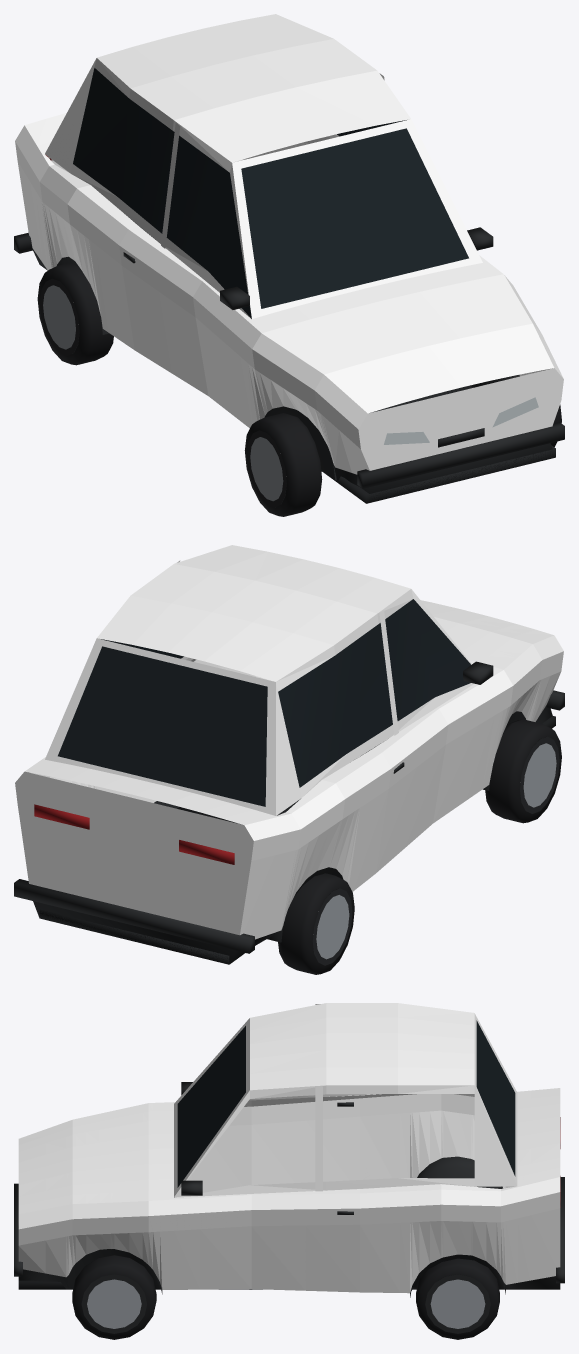
The model's file is hozuki_bico.glb.
The picture shows the model from 3 angles, top to bottom: view 1: azimuth 30°, elevation 25°; view 2: azimuth 150°, elevation 25°; view 3: azimuth 270°, elevation 25°; orthographic projection. The views are drawn at different scales.
Parts seen in each view (by area): view 1: Body_Paint, Body_Details, Mount_FrontLeft_Wheel_Details, Mount_RearLeft_Wheel_Details; view 2: Body_Paint, Body_Details, Mount_FrontLeft_Wheel_Details, Mount_RearLeft_Wheel_Details; view 3: Body_Paint, Body_Details, Mount_FrontRight_Wheel_Details, Mount_RearRight_Wheel_Details.
Boxes of the visible parts, x1,y1,x2,y2 form: Body_Paint: (15, 14, 563, 474); Body_Details: (14, 68, 564, 503); Mount_FrontLeft_Wheel_Details: (244, 413, 322, 516); Mount_RearLeft_Wheel_Details: (37, 262, 113, 365); Body_Paint: (15, 545, 563, 939); Body_Details: (14, 599, 564, 964); Mount_FrontLeft_Wheel_Details: (485, 719, 561, 823); Mount_RearLeft_Wheel_Details: (278, 873, 354, 974); Body_Paint: (18, 1003, 560, 1293); Body_Details: (14, 1020, 564, 1297); Mount_FrontRight_Wheel_Details: (72, 1255, 156, 1339); Mount_RearRight_Wheel_Details: (416, 1258, 499, 1339).
Bounding box in the file's own units: 1.61 × 1.64 × 3.34.
2 materials, 1 textured.
